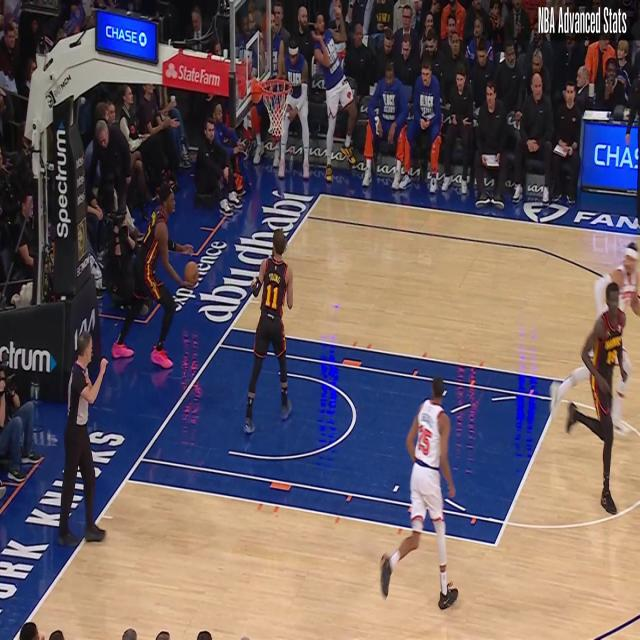ball: (185, 256, 199, 291)
judge: (59, 331, 108, 548)
player: (383, 373, 461, 612), (554, 240, 640, 430), (111, 183, 194, 368), (567, 284, 623, 522), (246, 230, 296, 433), (313, 24, 358, 186)
